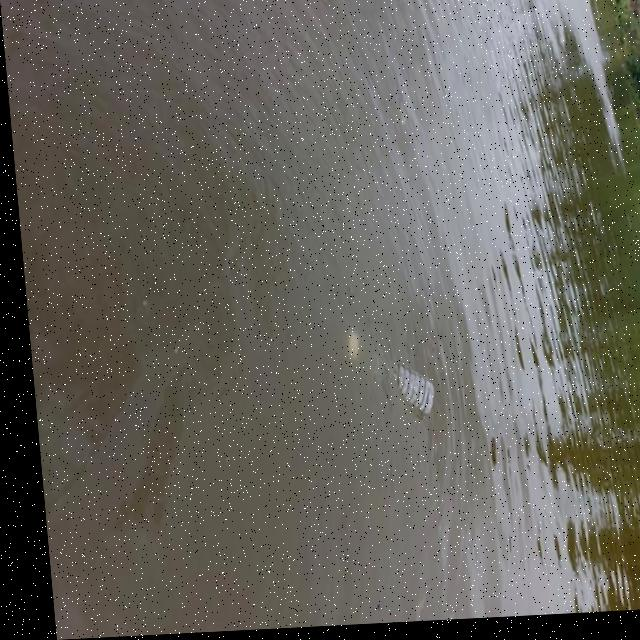waterbottle: (328, 320, 443, 427)
